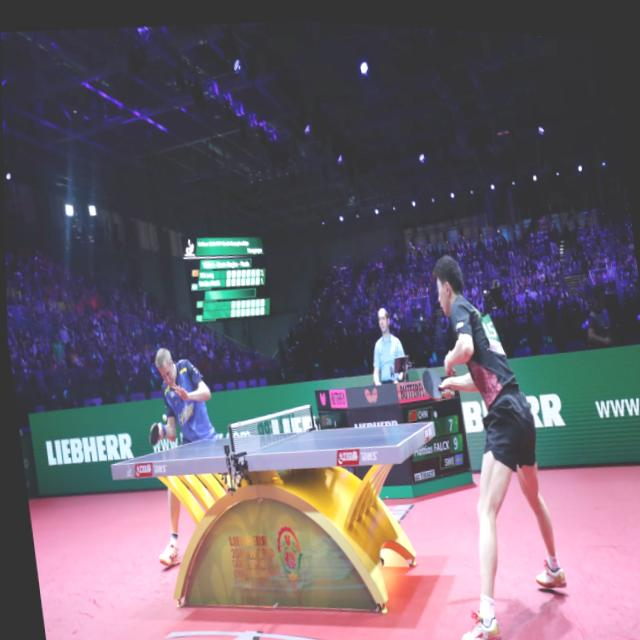TT Net: (227, 402, 315, 459)
TT Racket: (419, 364, 444, 406), (145, 416, 163, 450)
TT Table: (111, 421, 432, 464)
